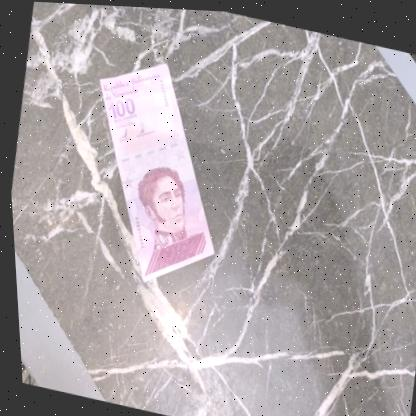one_hundred-front-vef: (63, 45, 245, 297)
